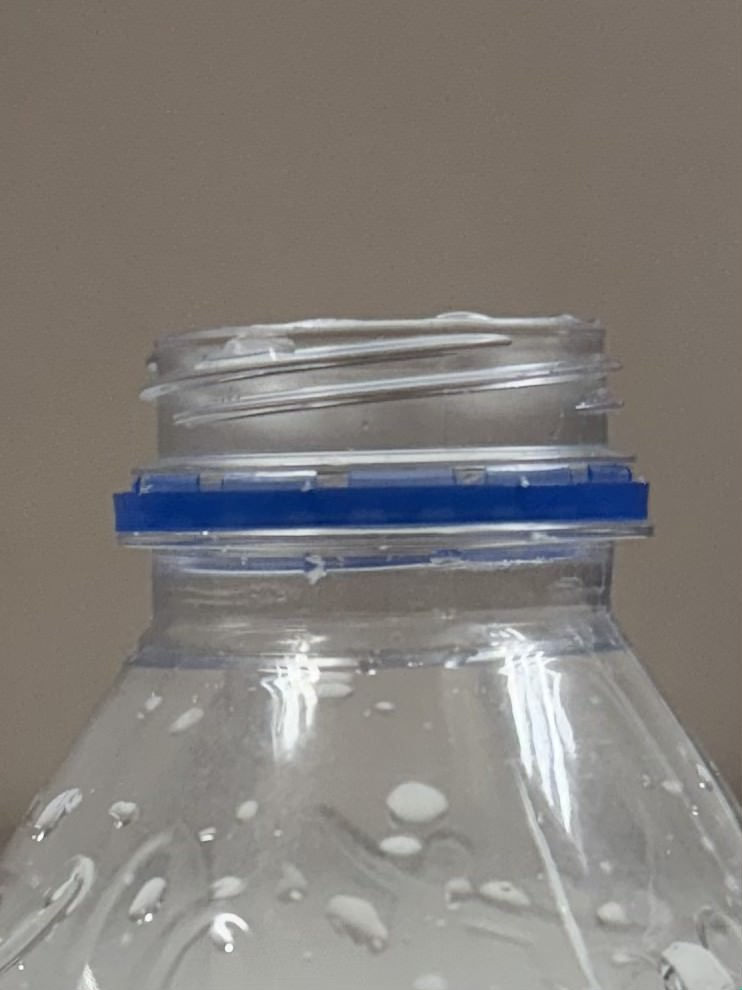no_cap: (109, 308, 656, 543)
